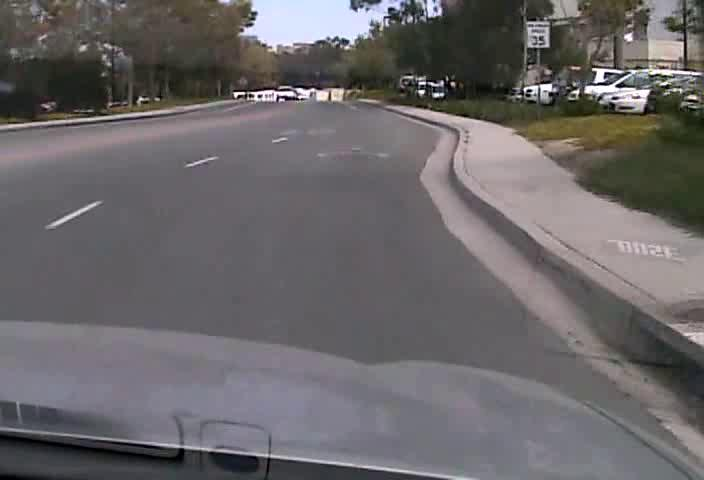speedLimit35: (525, 20, 550, 48)
